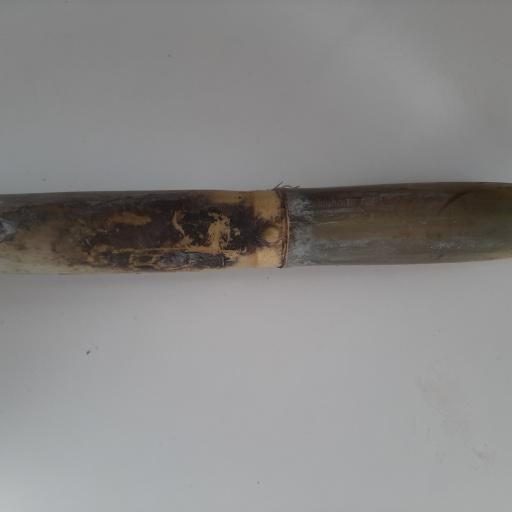Bud: (256, 223, 282, 246)
